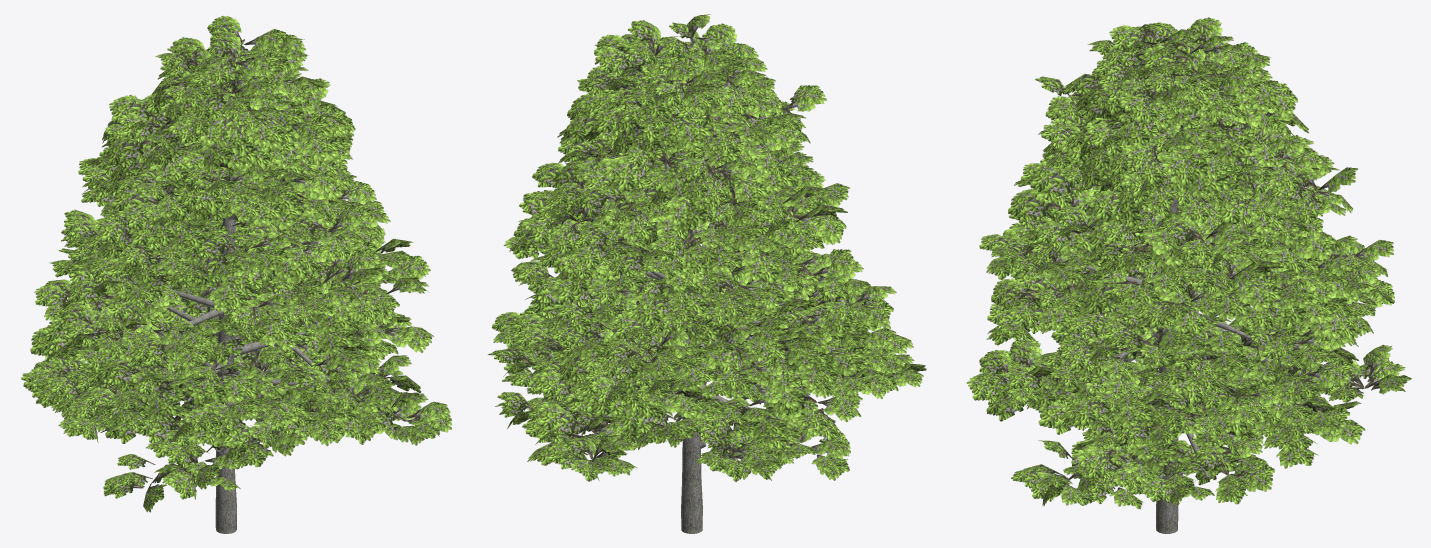
The model's file is highDraco.glb.
3 views of the same model, side by side, from view 1: azimuth 30°, elevation 25°; view 2: azimuth 150°, elevation 25°; view 3: azimuth 270°, elevation 25° (orthographic). The views are drawn at different scales.
Parts seen in each view (by area): view 1: instancedMergedLeavesMesh_Black_Gum_0_6_0, instancedMergedBranchesLOD_Black_Gum_0_1, instancedMergedBranchesLOD_Black_Gum_0_2; view 2: instancedMergedLeavesMesh_Black_Gum_0_6_0, instancedMergedBranchesLOD_Black_Gum_0_1; view 3: instancedMergedLeavesMesh_Black_Gum_0_6_0, instancedMergedBranchesLOD_Black_Gum_0_1, instancedMergedBranchesLOD_Black_Gum_0_2.
Part boxes in pixels (box(x1,y1,x2,y2)): instancedMergedLeavesMesh_Black_Gum_0_6_0: box(21, 16, 451, 512); instancedMergedBranchesLOD_Black_Gum_0_1: box(215, 218, 236, 533); instancedMergedBranchesLOD_Black_Gum_0_2: box(161, 214, 329, 452); instancedMergedLeavesMesh_Black_Gum_0_6_0: box(488, 14, 926, 481); instancedMergedBranchesLOD_Black_Gum_0_1: box(679, 148, 702, 533); instancedMergedLeavesMesh_Black_Gum_0_6_0: box(966, 17, 1411, 509); instancedMergedBranchesLOD_Black_Gum_0_1: box(1156, 196, 1178, 533); instancedMergedBranchesLOD_Black_Gum_0_2: box(1085, 265, 1262, 478).
Size of the model in its own units: 23.86 by 29 by 23.5.
Materials: 3 (3 with a texture image).
